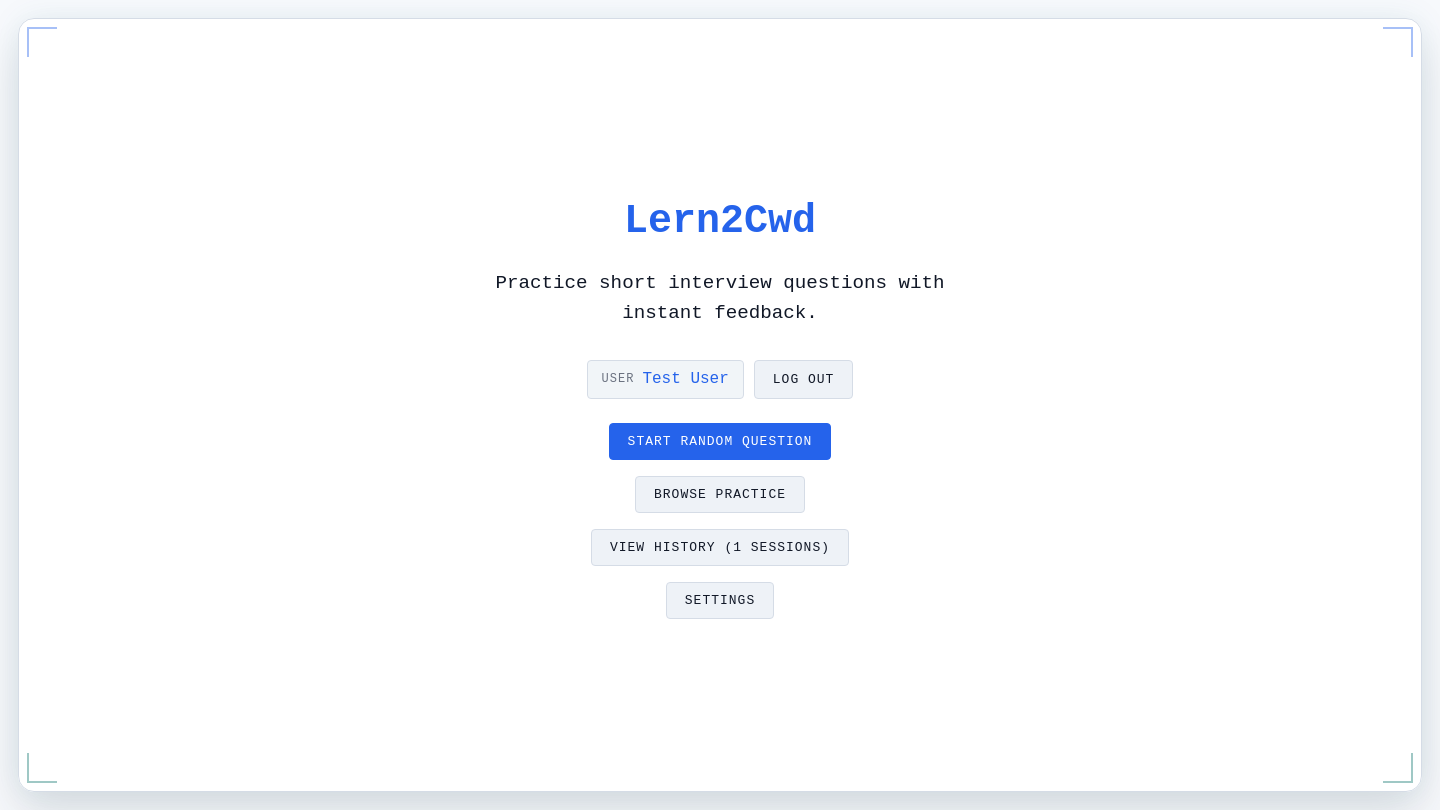
Test: App session context › hydrates legacy history sessions so review copy context includes the problem and candidate answer
The image size is (1440, 810).
Step 1. Click the button with test id "view-history-button" → (720, 548), box x1=591 y1=529 x2=849 y2=566
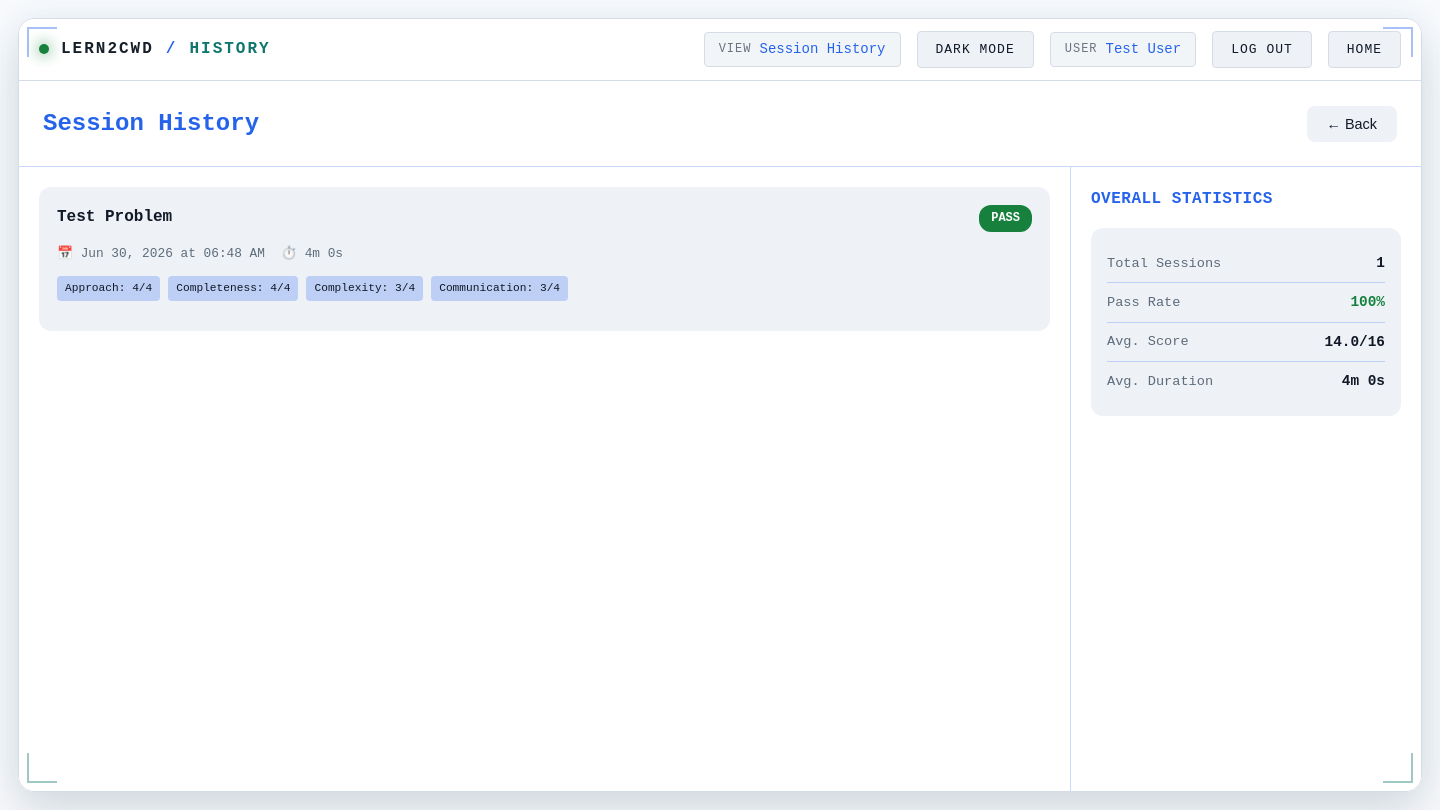
Step 2. Click the element that starts with "Test Problem" → (544, 259), box x1=39 y1=187 x2=1050 y2=331
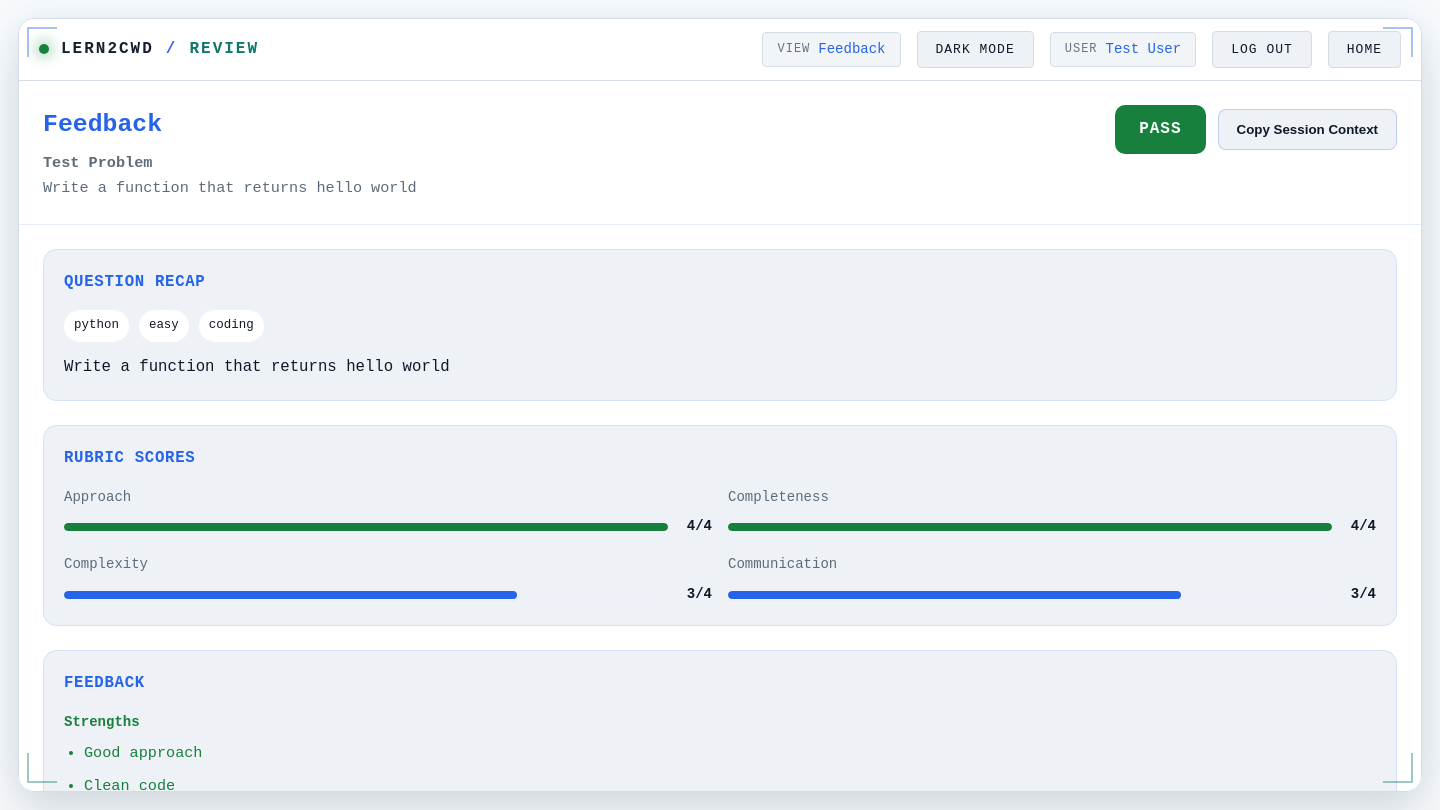
expect the text "Test Problem" is shown: met, box x1=43 y1=154 x2=152 y2=172
expect the element with test id "review-view" is shown: met
Step 3. Click the button with test id "copy-review-context-button" → (1307, 129), box x1=1218 y1=109 x2=1397 y2=150
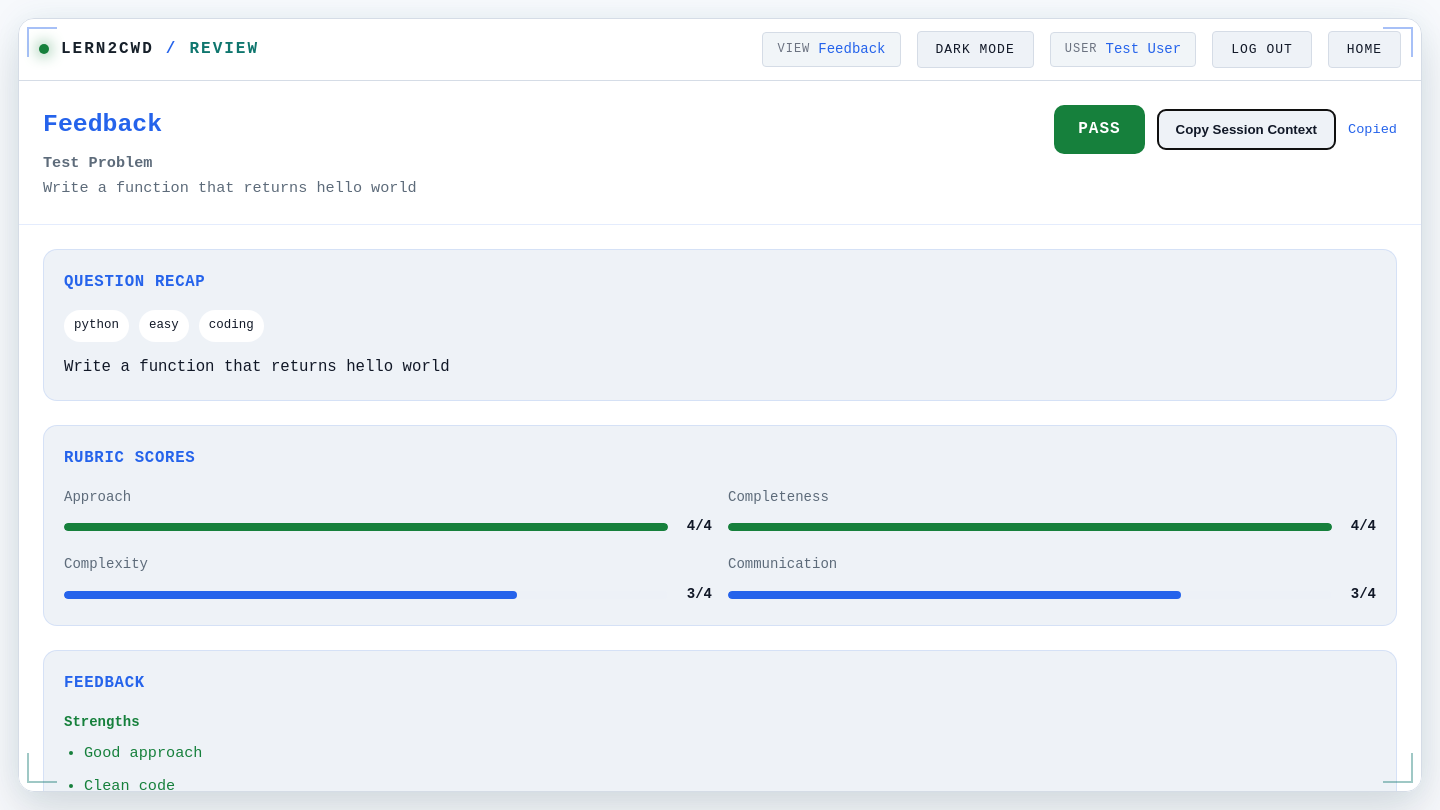
expect the text with test id "copy-context-status" reads "Copied": met, box x1=1348 y1=122 x2=1397 y2=137
